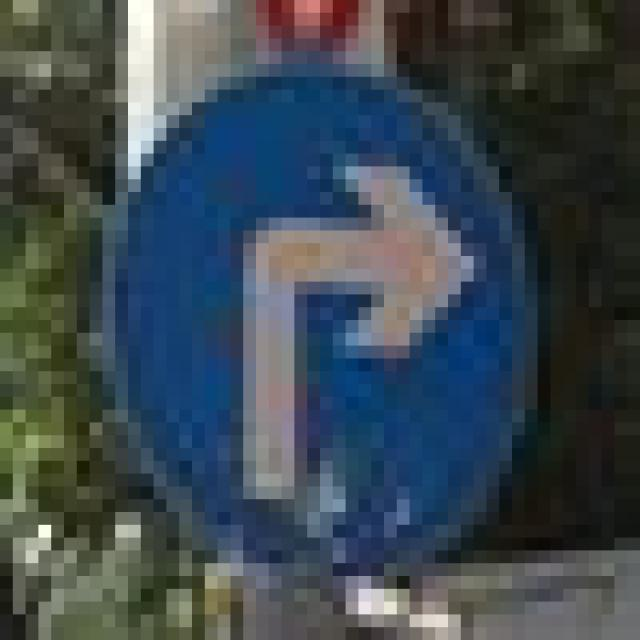TURN_RIGHT: (90, 51, 524, 576)
